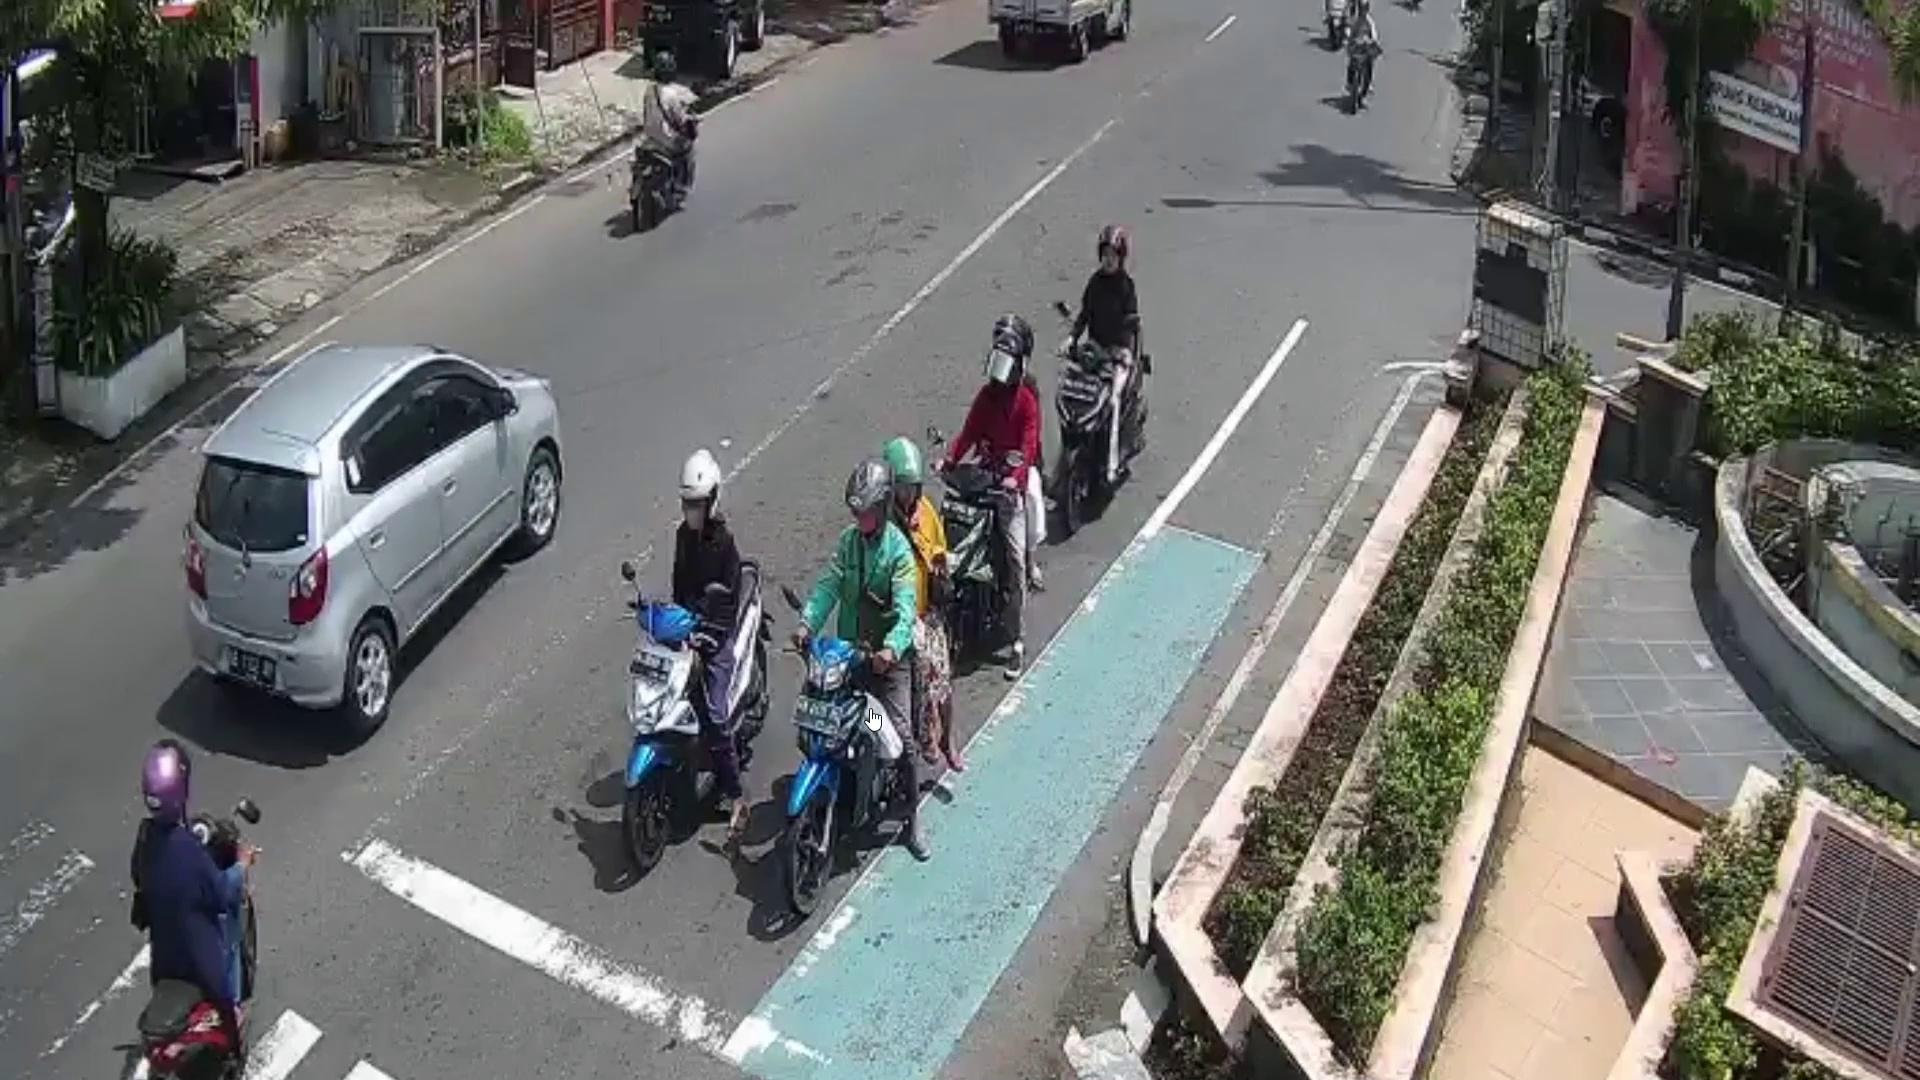car: (186, 334, 568, 756)
motorbike: (777, 580, 951, 923), (615, 558, 777, 877), (128, 812, 262, 1080), (924, 444, 1042, 705), (1058, 339, 1149, 537), (625, 115, 704, 227), (1345, 30, 1381, 113)
truck: (992, 0, 1130, 65)
